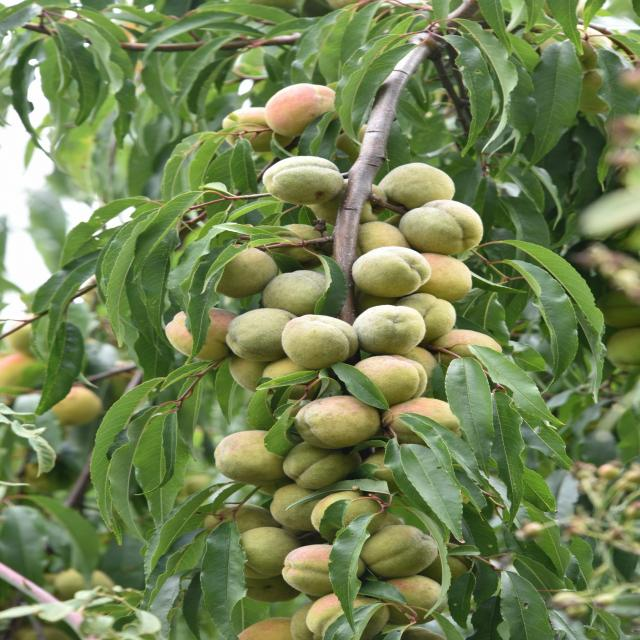Peach: (1, 17, 640, 640)
